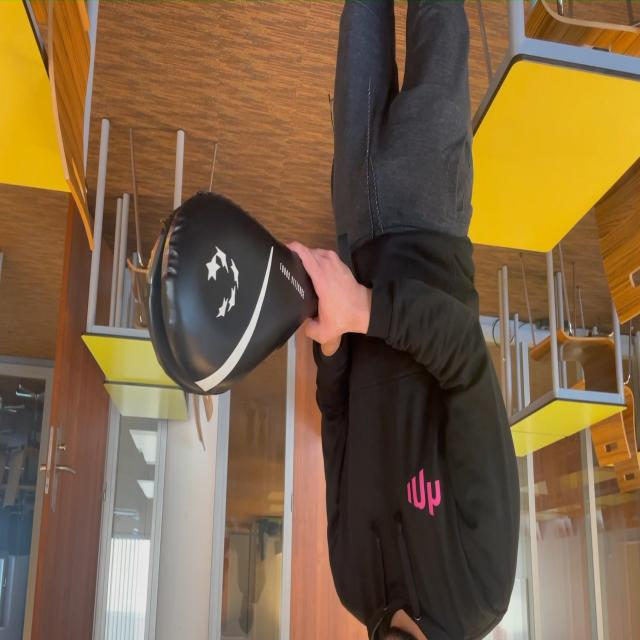paddle: (162, 206, 296, 389)
